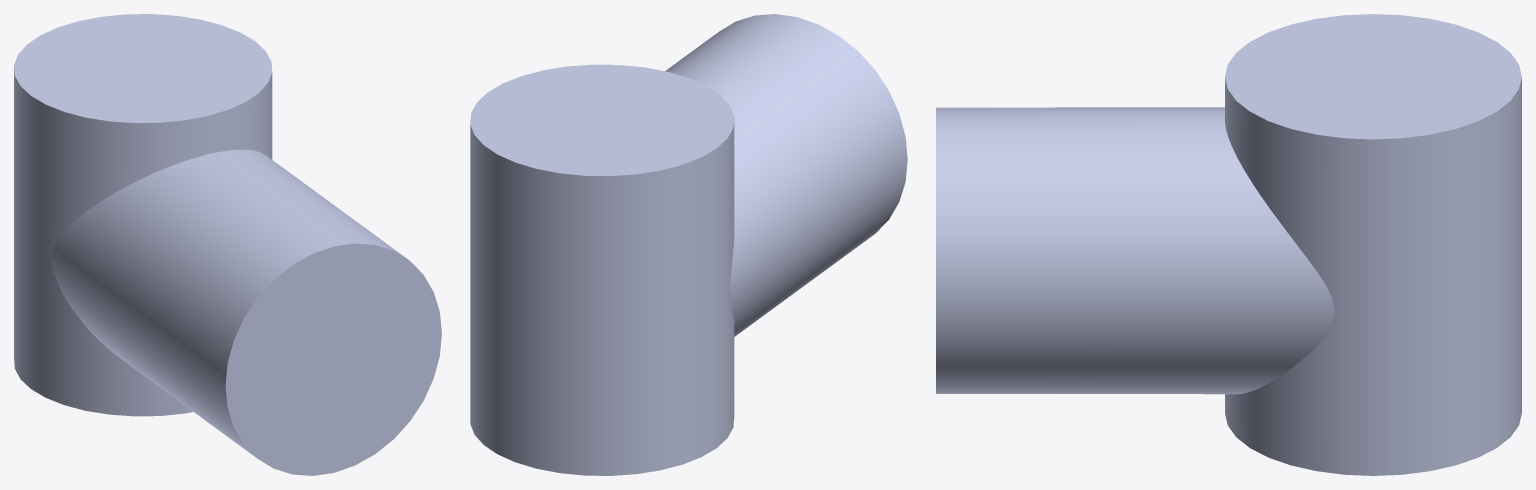
3 views of the same model, side by side, from view 1: azimuth 30°, elevation 25°; view 2: azimuth 150°, elevation 25°; view 3: azimuth 270°, elevation 25° (orthographic). The views are drawn at different scales.
Visible parts, largest first — view 1: FBXASC060LINK6BFBXASC062-FBXASC060FBXASC195FBXASC141FBXASC19; view 2: FBXASC060LINK6BFBXASC062-FBXASC060FBXASC195FBXASC141FBXASC19; view 3: FBXASC060LINK6BFBXASC062-FBXASC060FBXASC195FBXASC141FBXASC19.
Boxes of the visible parts, box(x1,y1,x2,y2) form: FBXASC060LINK6BFBXASC062-FBXASC060FBXASC195FBXASC141FBXASC19: box(14, 14, 441, 475); FBXASC060LINK6BFBXASC062-FBXASC060FBXASC195FBXASC141FBXASC19: box(470, 14, 907, 475); FBXASC060LINK6BFBXASC062-FBXASC060FBXASC195FBXASC141FBXASC19: box(936, 14, 1521, 475).
Bounding box in the file's own units: 0.058 × 0.1144 × 0.0725.
